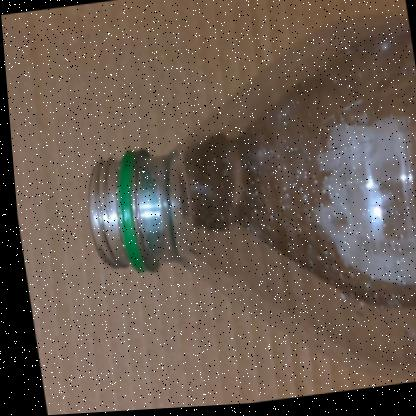open bottle: (1, 1, 416, 416)
